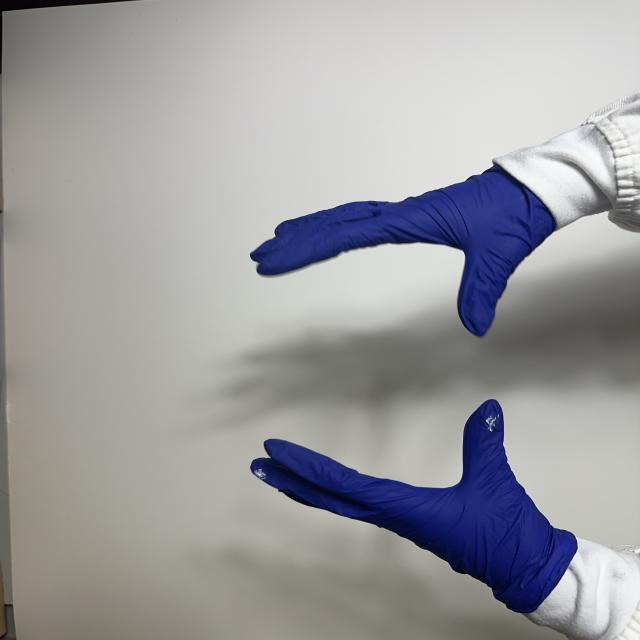gloves_contaminated: (251, 400, 577, 613), (251, 168, 555, 336)
